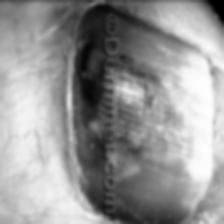Toxin: (119, 24, 218, 220), (69, 0, 102, 220)
